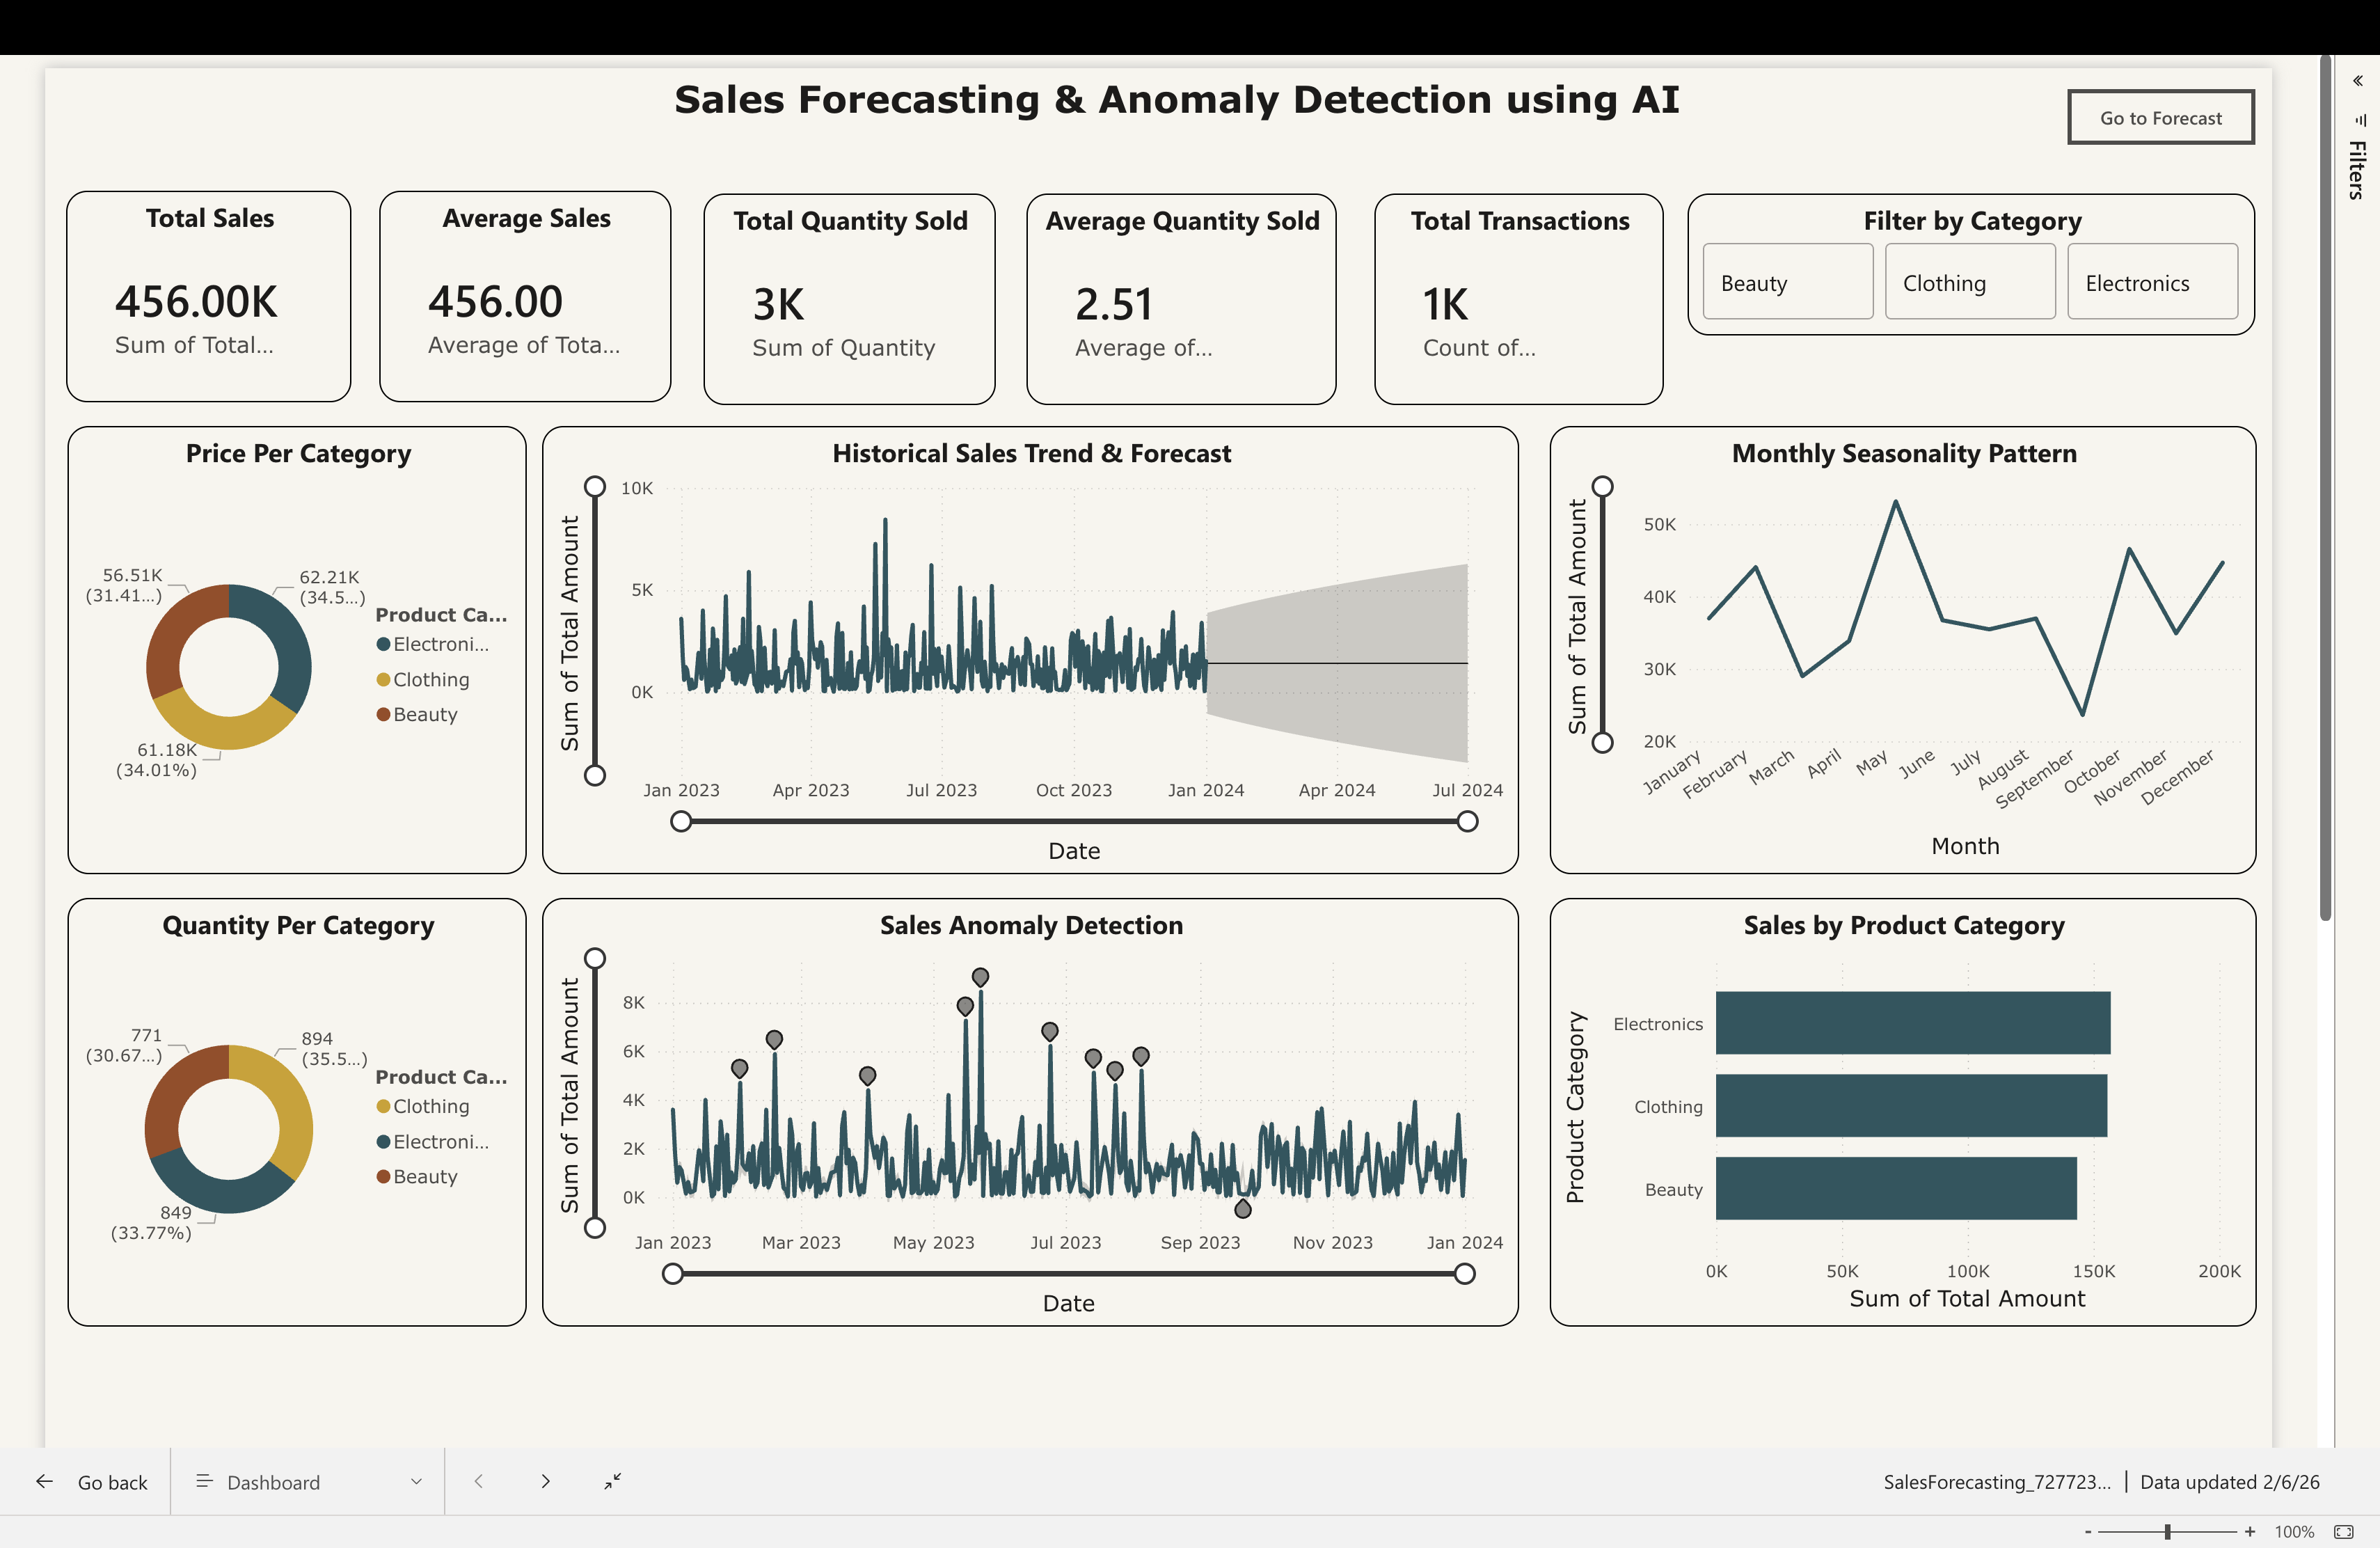

The dashboard page shown, as its layout file describes it:
{"tool":"powerbi","page":{"name":"Dashboard","canvas":[1600,1600],"ordinal":0},"visuals":[{"type":"textbox","box":[446.7,0,740,55],"z":0},{"type":"cardVisual","title":"Total Sales","fields":{"Data":["Sum(retail_sales_dataset.Total Amount)"]},"box":[15,88.3,205,151.7],"z":1000},{"type":"cardVisual","title":"Total Transactions","fields":{"Data":["CountNonNull(retail_sales_dataset.Transaction ID)"]},"box":[955,90,208.3,151.7],"z":2000},{"type":"cardVisual","title":"Total Quantity Sold","fields":{"Data":["Sum(retail_sales_dataset.Quantity)"]},"box":[473.3,90,210,151.7],"z":3000},{"type":"cardVisual","title":"Average Sales","fields":{"Data":["Avg(retail_sales_dataset.Total Amount)"]},"box":[240,88.3,210,151.7],"z":4000},{"type":"cardVisual","title":"Average Quantity Sold","fields":{"Data":["Avg(retail_sales_dataset.Quantity)"]},"box":[705,90,223.3,151.7],"z":5000},{"type":"lineChart","title":"Historical Sales Trend & Forecast","fields":{"Category":["retail_sales_dataset.Date"],"Y":["Sum(retail_sales_dataset.Total Amount)"]},"box":[357.1,257.1,701.4,321.4],"z":6000},{"type":"lineChart","title":"Sales Anomaly Detection","fields":{"Category":["retail_sales_dataset.Date"],"Y":["Sum(retail_sales_dataset.Total Amount)"]},"box":[357.1,595.7,701.4,308.6],"z":7000},{"type":"lineChart","title":"Monthly Seasonality Pattern","fields":{"Category":["retail_sales_dataset.Date.Variation.Date Hierarchy.Month"],"Y":["Sum(retail_sales_dataset.Total Amount)"]},"box":[1081.4,257.1,507.1,321.4],"z":8000},{"type":"clusteredBarChart","title":"Sales by Product Category","fields":{"Category":["retail_sales_dataset.Product Category"],"Y":["Sum(retail_sales_dataset.Total Amount)"]},"box":[1081.4,595.7,507.1,308.6],"z":9000},{"type":"advancedSlicerVisual","title":"Filter by Category","fields":{"Values":["retail_sales_dataset.Product Category"]},"box":[1180,90,408.3,101.7],"z":10000},{"type":"donutChart","title":"Price Per Category","fields":{"Category":["retail_sales_dataset.Product Category"],"Y":["Sum(retail_sales_dataset.Price per Unit)"]},"box":[15.7,257.1,330,321.4],"z":11000},{"type":"donutChart","title":"Quantity Per Category","fields":{"Category":["retail_sales_dataset.Product Category"],"Y":["Sum(retail_sales_dataset.Quantity)"]},"box":[15.7,595.7,330,308.6],"z":12000},{"type":"actionButton","box":[1453.3,15,135,40],"z":13000}]}

Visuals, with their boxes on the page's 1600x1600 design canvas (x1, y1, x2, y2). These are canvas units, not pixel positions in the 2380x1548 screenshot, which may show the page scaled, cropped or inside an application window:
textbox: l=447, t=0, r=1187, b=55
"Total Sales" cardVisual: l=15, t=88, r=220, b=240
"Total Transactions" cardVisual: l=955, t=90, r=1163, b=242
"Total Quantity Sold" cardVisual: l=473, t=90, r=683, b=242
"Average Sales" cardVisual: l=240, t=88, r=450, b=240
"Average Quantity Sold" cardVisual: l=705, t=90, r=928, b=242
"Historical Sales Trend & Forecast" lineChart: l=357, t=257, r=1058, b=578
"Sales Anomaly Detection" lineChart: l=357, t=596, r=1058, b=904
"Monthly Seasonality Pattern" lineChart: l=1081, t=257, r=1588, b=578
"Sales by Product Category" clusteredBarChart: l=1081, t=596, r=1588, b=904
"Filter by Category" advancedSlicerVisual: l=1180, t=90, r=1588, b=192
"Price Per Category" donutChart: l=16, t=257, r=346, b=578
"Quantity Per Category" donutChart: l=16, t=596, r=346, b=904
actionButton: l=1453, t=15, r=1588, b=55
